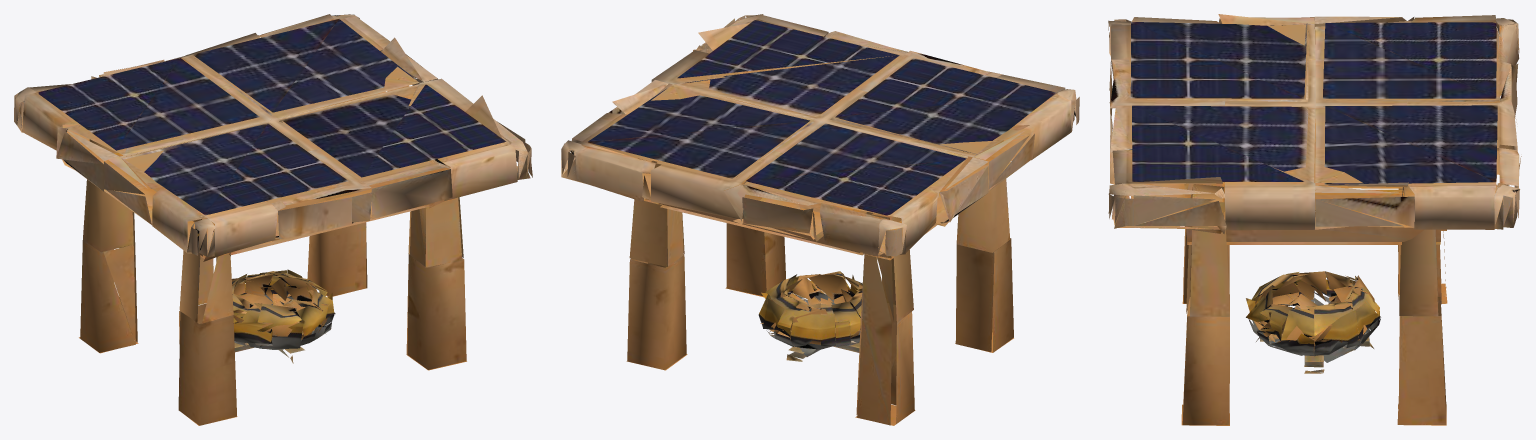
The model's file is large-solar-array.lod1.glb.
The picture shows the model from 3 angles, left to right: view 1: azimuth 30°, elevation 25°; view 2: azimuth 150°, elevation 25°; view 3: azimuth 270°, elevation 25°; orthographic projection. The views are drawn at different scales.
Parts seen in each view (by area): view 1: large-solar-array; view 2: large-solar-array; view 3: large-solar-array.
Boxes of the visible parts, x1,y1,x2,y2 form: large-solar-array: [14, 14, 532, 425]; large-solar-array: [561, 14, 1079, 425]; large-solar-array: [1108, 14, 1521, 425].
Bounding box in the file's own units: 2.25 × 1.53 × 2.15.
Materials: 1 (1 with a texture image).
